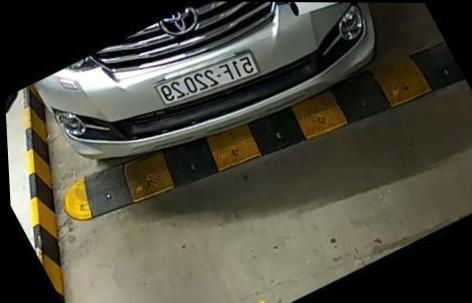License_Plate: (144, 50, 262, 110)
